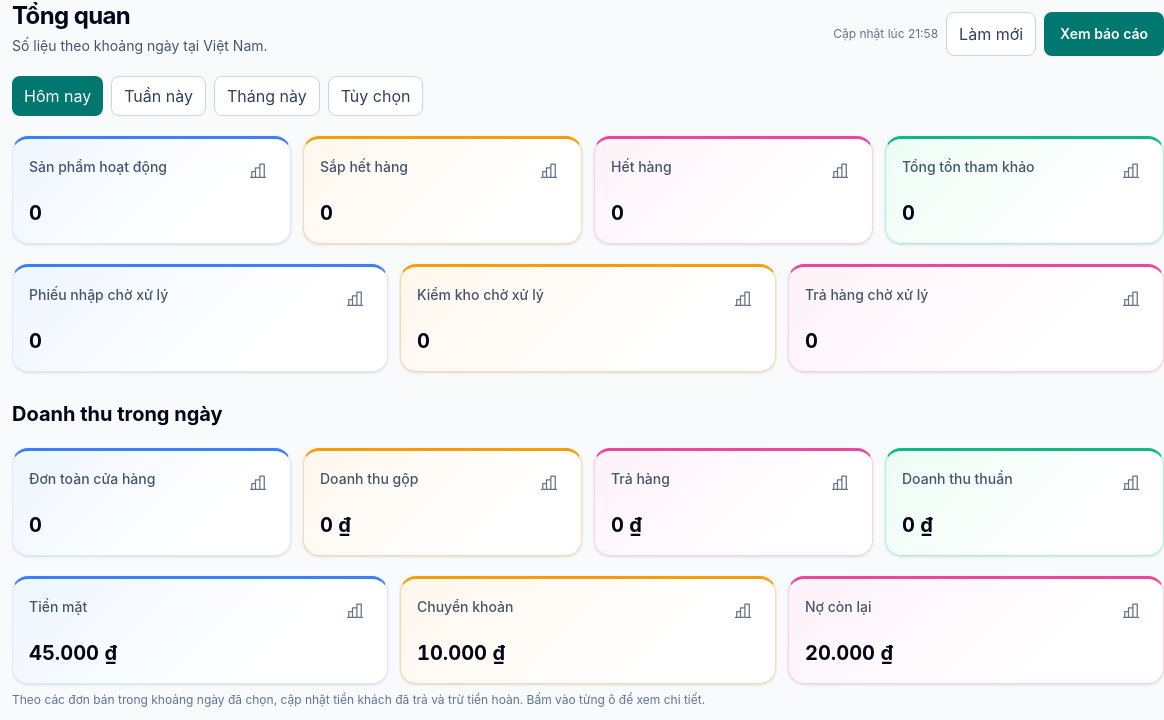
Test: DashboardPage › keeps a custom inclusive date range in the URL
The width and height of the screenshot is (1164, 720).
Click the button "Tùy chọn". click: click(376, 96)
box: [328, 76, 424, 116]
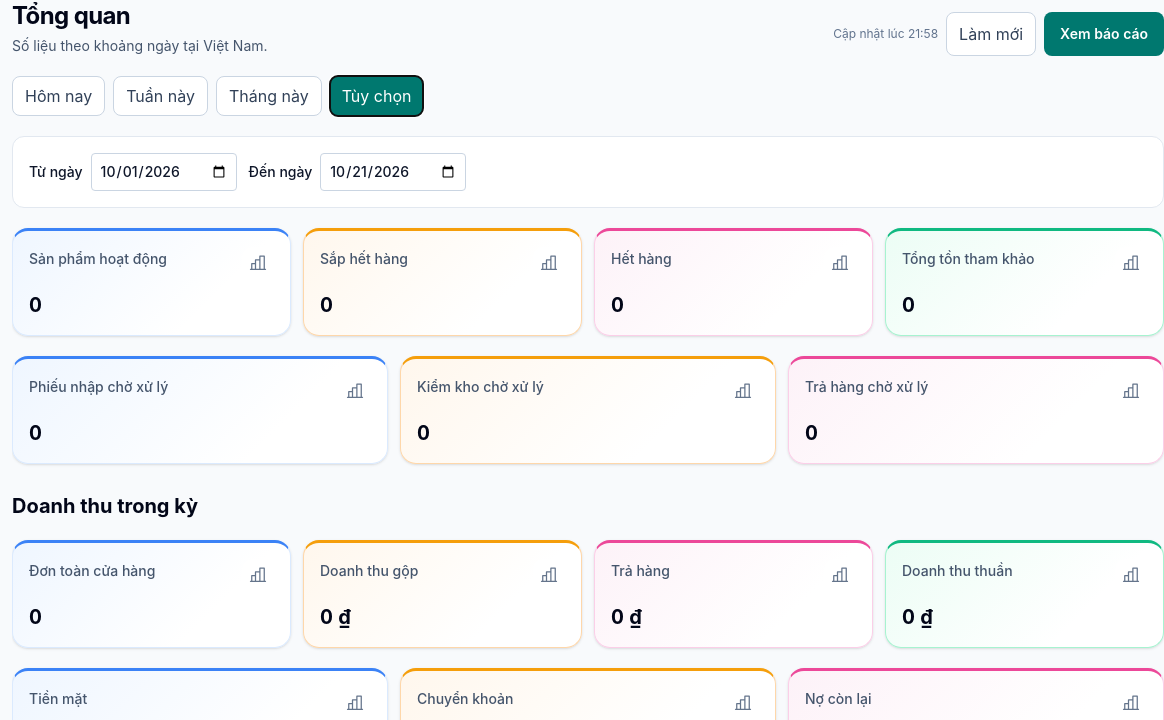
Type "2026-08-01" into the date field labelled "Từ ngày". click: (164, 172)
box: [91, 153, 237, 191]
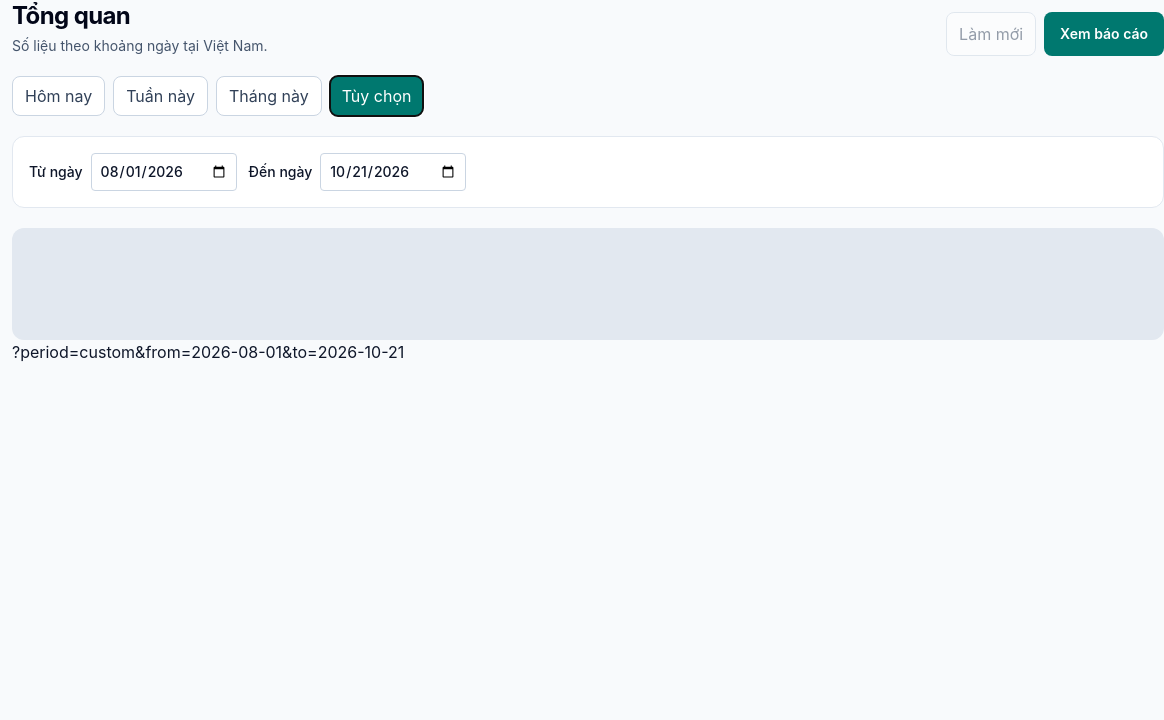
Type "2026-08-23" into the date field labelled "Đến ngày". click: (393, 172)
box: [320, 153, 466, 191]
(page scrolled)
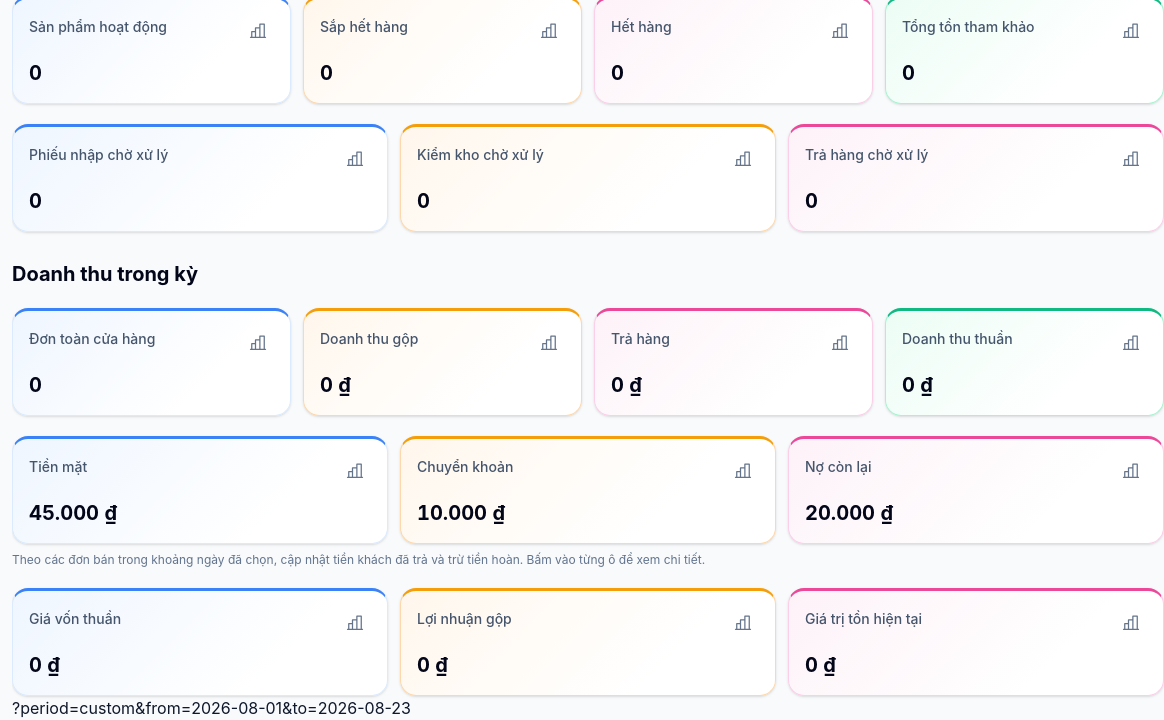
Expected: the text named "Địa chỉ hiện tại" shows "period=custom&from=2026-08-01&to=2026-08-23", [12, 698, 411, 718]
